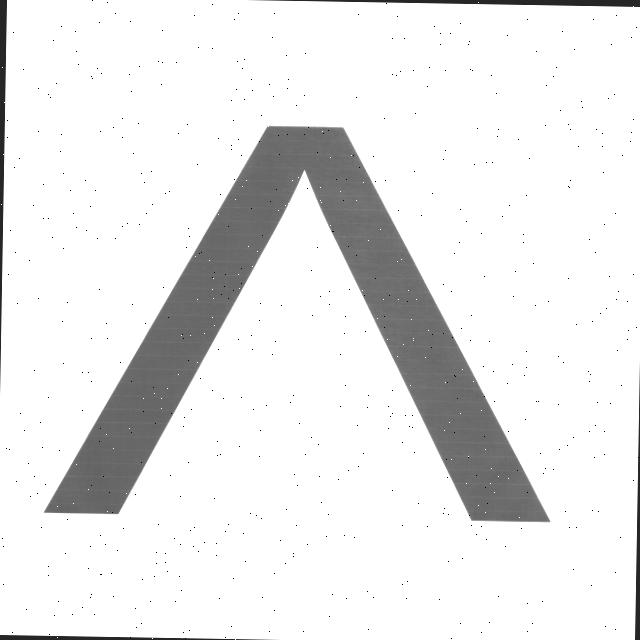v: (18, 101, 579, 538)
